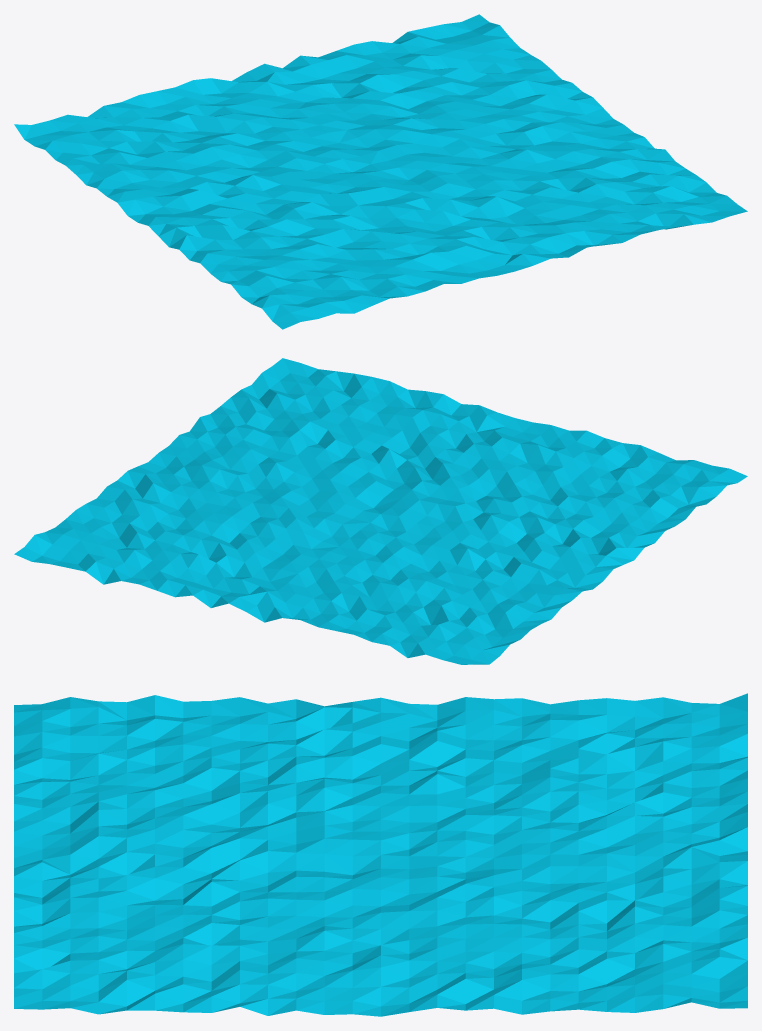
The model's file is Low Poly Water.fbx.
3 views of the same model, one above another, from view 1: azimuth 30°, elevation 25°; view 2: azimuth 150°, elevation 25°; view 3: azimuth 270°, elevation 25° (orthographic). The views are drawn at different scales.
Parts seen in each view (by area): view 1: Low Poly Water; view 2: Low Poly Water; view 3: Low Poly Water.
Boxes of the visible parts, x1,y1,x2,y2 form: Low Poly Water: [14, 14, 747, 329]; Low Poly Water: [14, 358, 747, 664]; Low Poly Water: [14, 693, 747, 1016].
Bounding box in the file's own units: 958 × 30.23 × 958.
